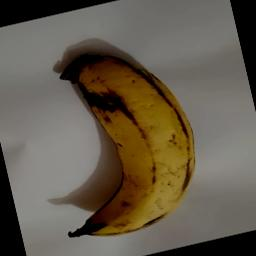Banana Unripe: (31, 34, 215, 246)
